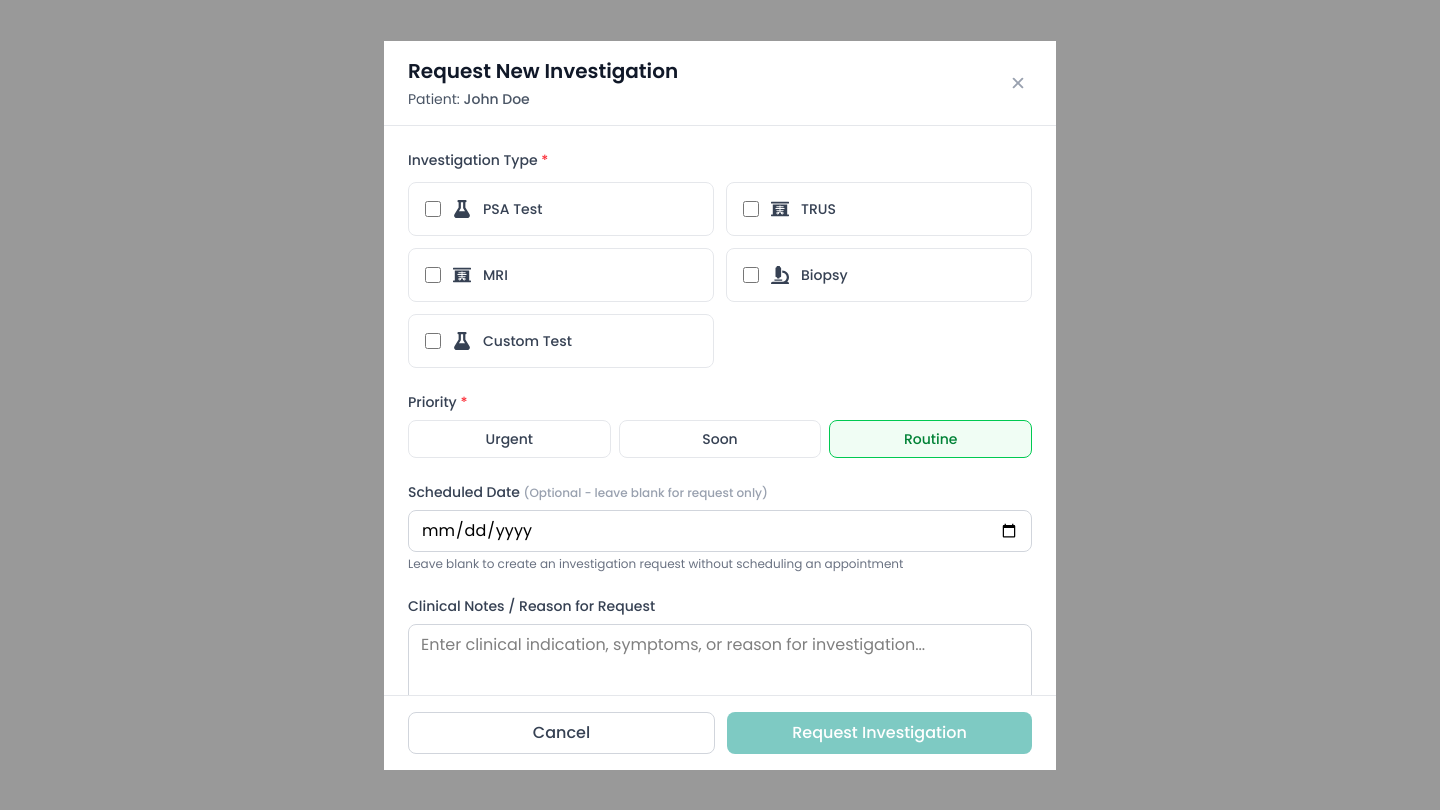
Test case: AddInvestigationModal › Investigation Type Selection › should show TRUS tests when TRUS is selected
Click the text "TRUS": [879, 208] box [726,182,1032,236]
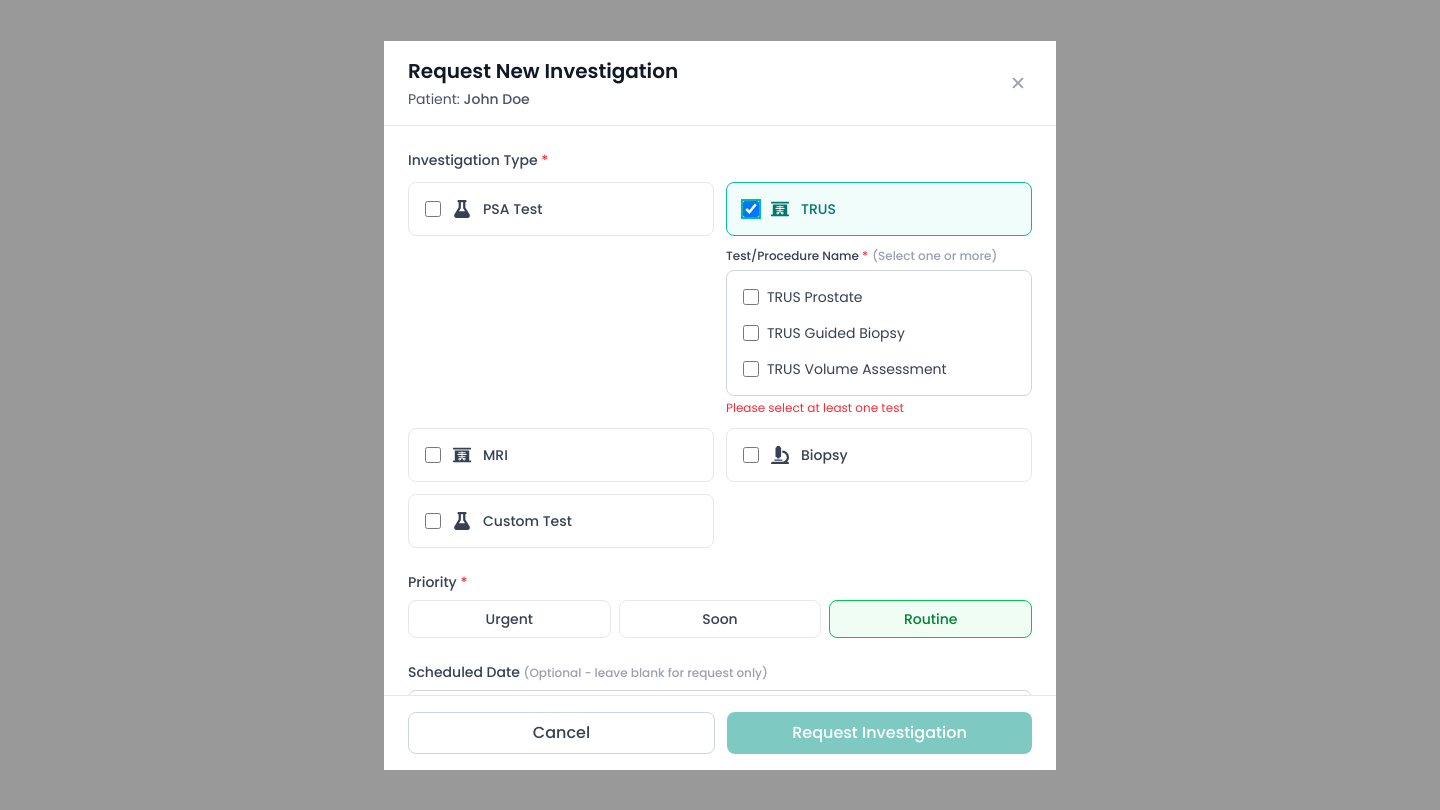
Now the text "TRUS Prostate" is shown, box [767,286,862,306]
